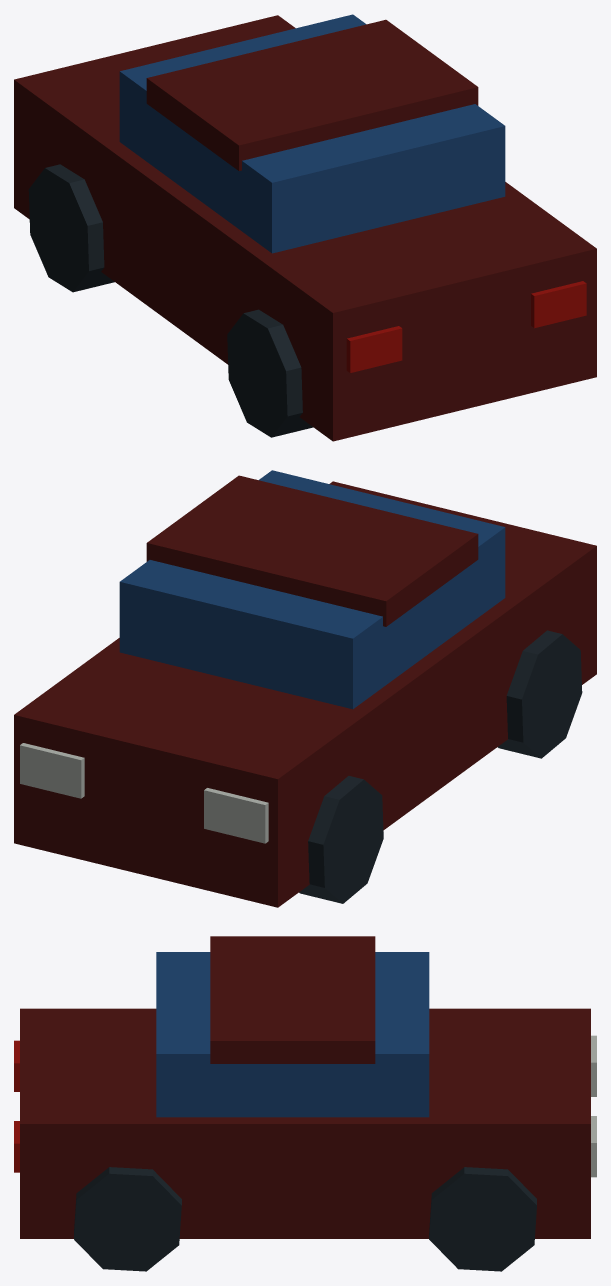
File: car-maroon.glb
3 views of the same model, one above another, from view 1: azimuth 30°, elevation 25°; view 2: azimuth 150°, elevation 25°; view 3: azimuth 270°, elevation 25° (orthographic). The views are drawn at different scales.
Parts seen in each view (by area): view 1: car-maroon; view 2: car-maroon; view 3: car-maroon.
Boxes of the visible parts, x1,y1,x2,y2 form: car-maroon: (14, 14, 596, 441); car-maroon: (14, 470, 596, 907); car-maroon: (14, 936, 596, 1271).
Size of the model in its own units: 4.8 by 3.8 by 9.19.
